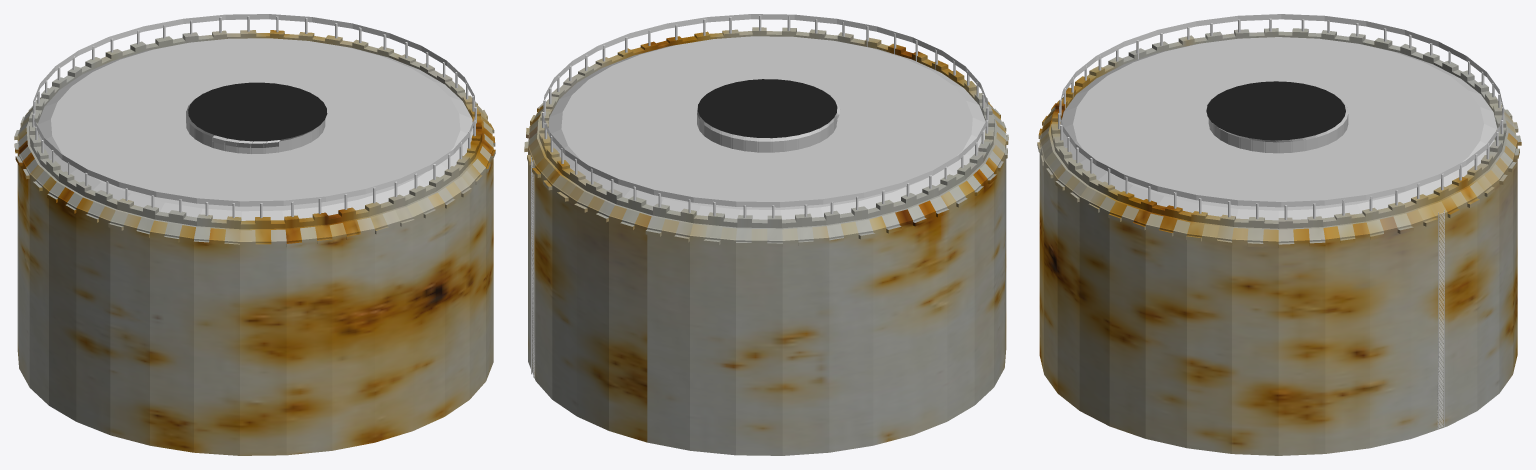
The model's file is doam.fbx.
The picture shows the model from 3 angles, left to right: view 1: azimuth 30°, elevation 25°; view 2: azimuth 150°, elevation 25°; view 3: azimuth 270°, elevation 25°; orthographic projection.
Visible parts, largest first — view 1: 円柱, 円; view 2: 円柱, 円, 円柱.003; view 3: 円柱, 円, 円柱.003.
Part boxes in pixels (x1,y1,x2,y2): 円柱: [14, 30, 495, 455]; 円: [33, 14, 476, 206]; 円柱: [524, 27, 1008, 455]; 円: [542, 14, 987, 207]; 円柱.003: [531, 159, 534, 376]; 円柱: [1037, 28, 1521, 455]; 円: [1059, 14, 1503, 207]; 円柱.003: [1437, 212, 1444, 428].
Bounding box in the file's own units: 4.05 × 2.28 × 4.05.
